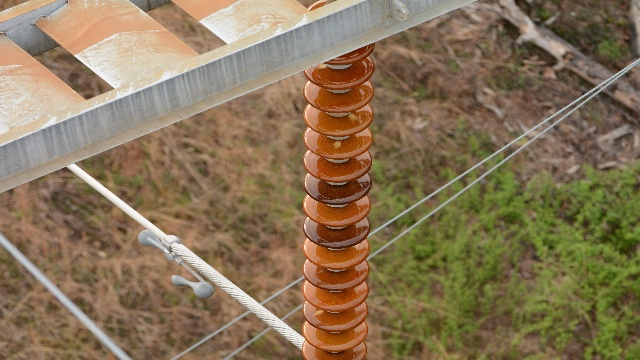insulator_unspecified: (302, 26, 376, 359)
pollution_flashover_local: (347, 112, 360, 124), (314, 60, 328, 70), (329, 139, 340, 150), (310, 309, 325, 317), (352, 243, 364, 250)
